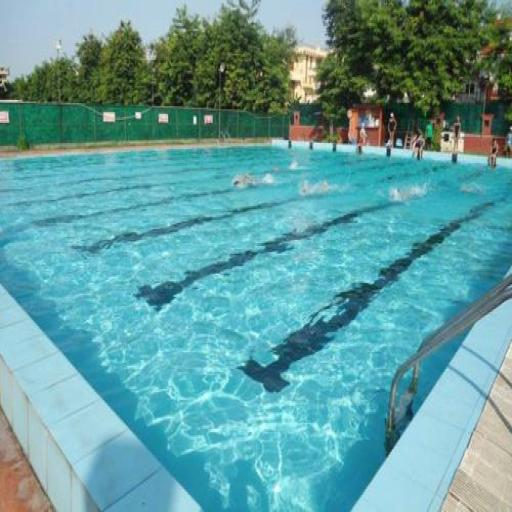swimming: (408, 124, 427, 164), (484, 134, 501, 174)
